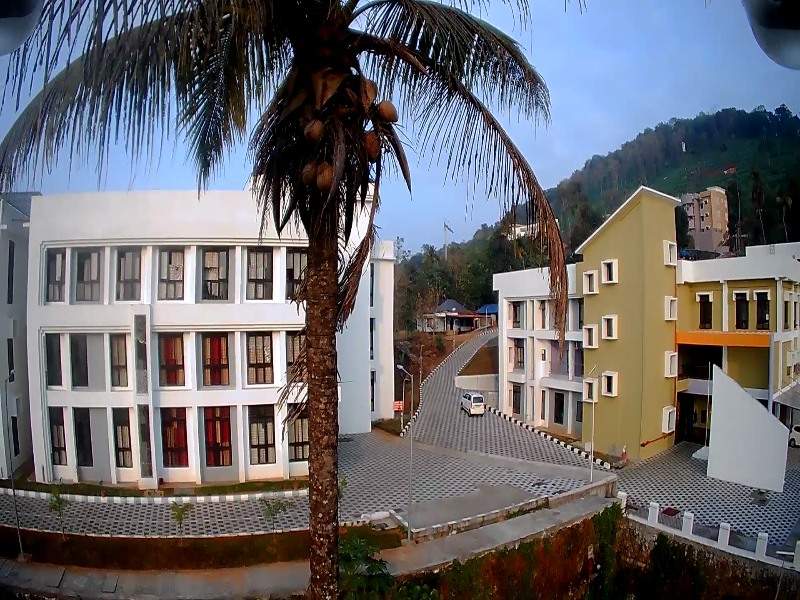coconut: (373, 96, 401, 126), (300, 120, 322, 146), (315, 159, 331, 187), (300, 159, 313, 182), (368, 137, 380, 159)
